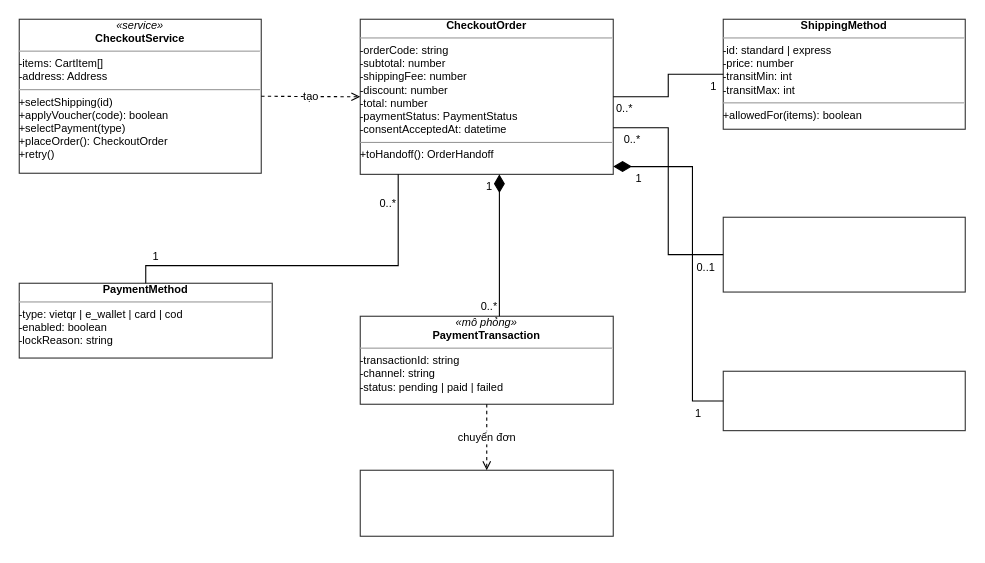
This 985x563 diagram has some shape labels left out. Here are the shapes that lost their labels. From the top down, the centre of each, then its label:
(x=843, y=254): Voucher -code: string -discountAmount: number -isApplied: boolean
(x=843, y=400): PolicyConsent -policyVersion: string -acceptedAt: datetime
(x=486, y=502): «interface» OrderIntake +placeOrder(handoff): Order
